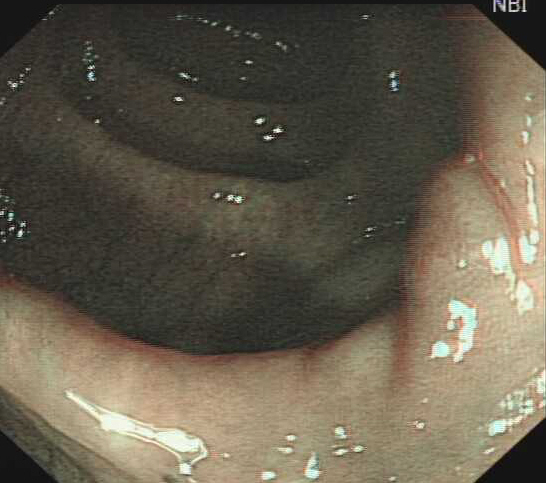others: (401, 157, 515, 333)
